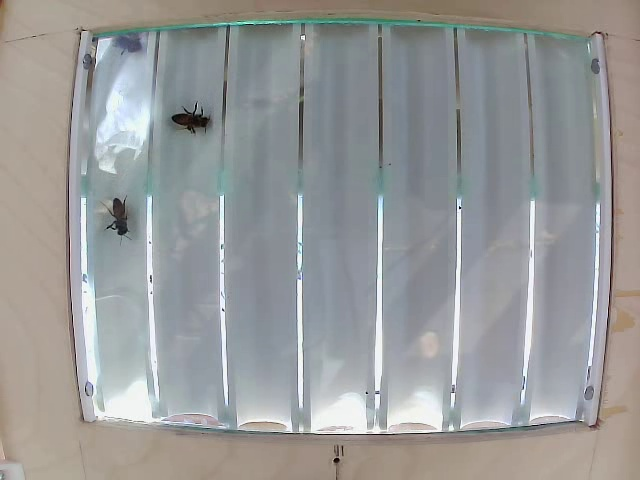bee: (102, 190, 138, 244), (168, 99, 211, 139), (109, 31, 142, 59)
